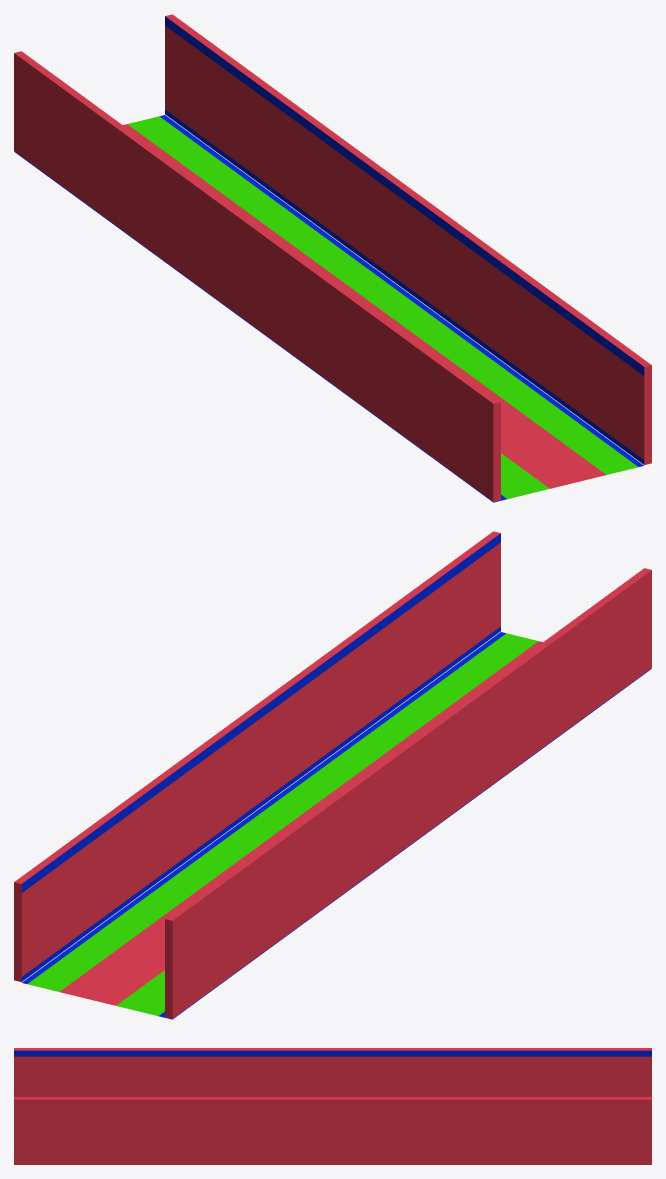
File: corridor.fbx
3 renders of one model, top to bottom at view 1: azimuth 30°, elevation 25°; view 2: azimuth 150°, elevation 25°; view 3: azimuth 270°, elevation 25°, orthographic. The views are drawn at different scales.
Visible parts, largest first — view 1: Cube, Cube.001, Plane; view 2: Cube.001, Cube, Plane; view 3: Cube, Cube.001.
Part boxes in pixels (box(x1,y1,x2,y2)): Cube: box(165, 14, 651, 464); Cube.001: box(14, 51, 500, 501); Plane: box(14, 115, 643, 502); Cube.001: box(165, 568, 651, 1018); Cube: box(14, 531, 500, 981); Plane: box(22, 632, 651, 1019); Cube: box(14, 1097, 651, 1164); Cube.001: box(14, 1048, 651, 1096).
Size of the model in its own units: 1050 by 625 by 5500.
